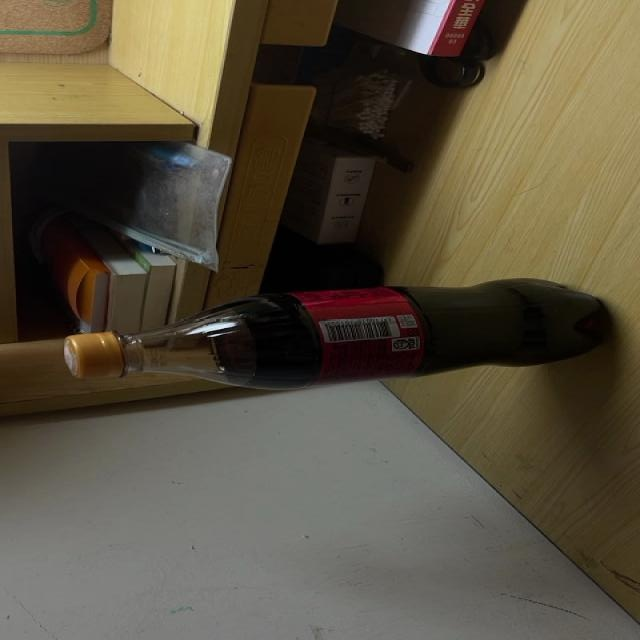Coca-Cola: (58, 276, 608, 390)
